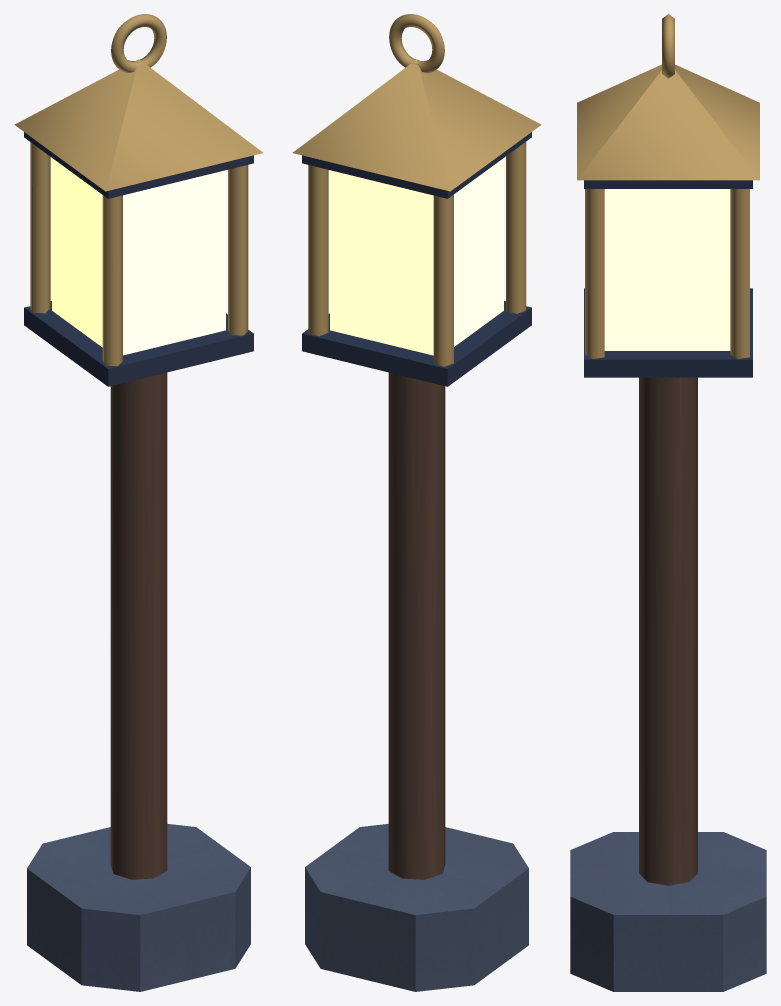
Rendered from enchanted-lamp.glb.
The picture shows the model from 3 angles, left to right: view 1: azimuth 30°, elevation 25°; view 2: azimuth 150°, elevation 25°; view 3: azimuth 270°, elevation 25°; orthographic projection.
Visible parts, largest first — view 1: EnchantedLamp_gold, EnchantedLamp_stone, EnchantedLamp_wood, EnchantedLamp_flame, EnchantedLamp_dark; view 2: EnchantedLamp_gold, EnchantedLamp_stone, EnchantedLamp_wood, EnchantedLamp_flame, EnchantedLamp_dark; view 3: EnchantedLamp_wood, EnchantedLamp_stone, EnchantedLamp_gold, EnchantedLamp_flame, EnchantedLamp_dark.
Boxes of the visible parts, bbox=[...] form: EnchantedLamp_gold: bbox=[14, 14, 262, 366]; EnchantedLamp_stone: bbox=[27, 824, 250, 991]; EnchantedLamp_wood: bbox=[110, 372, 167, 879]; EnchantedLamp_flame: bbox=[52, 158, 225, 355]; EnchantedLamp_dark: bbox=[24, 132, 253, 386]; EnchantedLamp_gold: bbox=[293, 14, 541, 366]; EnchantedLamp_stone: bbox=[305, 824, 528, 991]; EnchantedLamp_wood: bbox=[388, 372, 445, 879]; EnchantedLamp_flame: bbox=[330, 158, 503, 355]; EnchantedLamp_dark: bbox=[302, 132, 531, 386]; EnchantedLamp_wood: bbox=[639, 377, 697, 885]; EnchantedLamp_stone: bbox=[570, 832, 766, 991]; EnchantedLamp_gold: bbox=[577, 14, 759, 358]; EnchantedLamp_flame: bbox=[604, 189, 730, 350]; EnchantedLamp_dark: bbox=[584, 180, 752, 377].
Bounding box in the file's own units: 0.3 × 1.57 × 0.3.
Materials: 5 (2 with a texture image).
